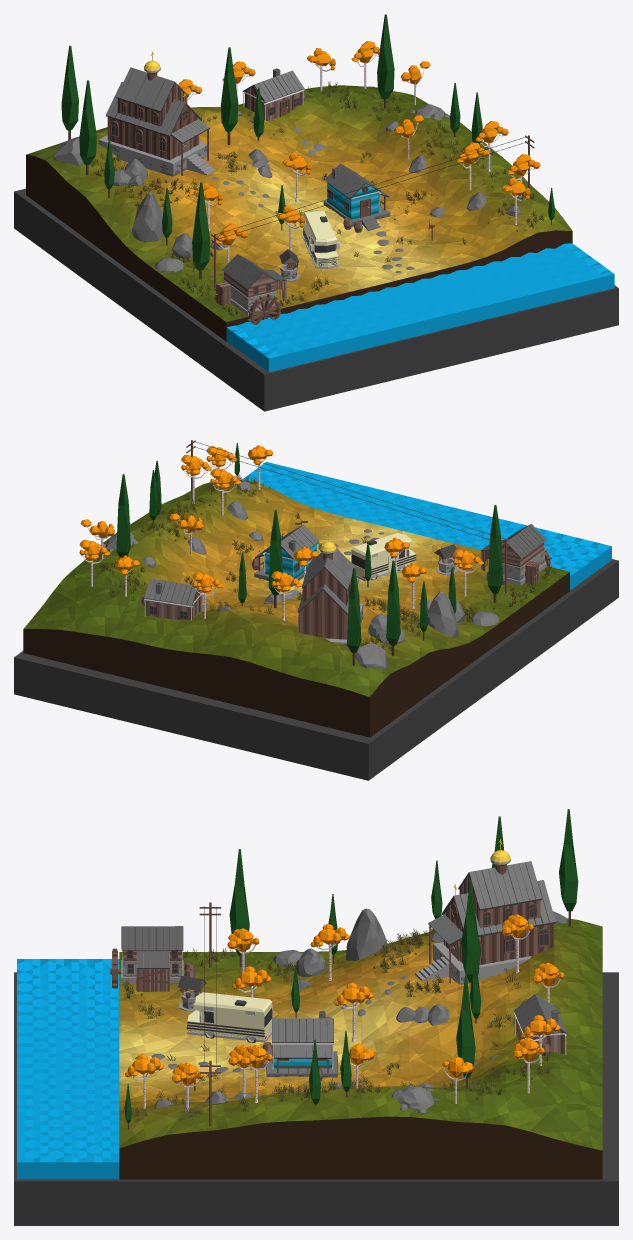
The model's file is village1.gltf.
The picture shows the model from 3 angles, top to bottom: view 1: azimuth 30°, elevation 25°; view 2: azimuth 150°, elevation 25°; view 3: azimuth 270°, elevation 25°; orthographic projection. The views are drawn at different scales.
Parts seen in each view (by area): view 1: Ground_51, Base_52, Water_50, Church_1_47, House_3_49, House_1_48, House_2_39, Hood_41, Rock_4 (4)_14, Tree_4 (3)_60, Tree_4 (9)_83, Tree_4_46 (+3 smaller); view 2: Ground_51, Base_52, Water_50, Church_1_47, House_2_39, House_3_49, Hood_41, House_1_48, Tree_4 (3)_60, Rock_4 (4)_14, Tree_4_46, Tree_4 (2)_55 (+11 smaller); view 3: Ground_51, Base_52, Water_50, Church_1_47, House_3_49, House_1_48, Hood_41, House_2_39, Rock_4 (4)_14, Tree_4 (2)_55, Tree_4 (9)_83, Tree_4 (4)_64 (+15 smaller).
Boxes of the visible parts, left/top/right/bottom form: Ground_51: left=26, top=85, right=572, bottom=341; Base_52: left=14, top=188, right=618, bottom=411; Water_50: left=226, top=243, right=614, bottom=372; Church_1_47: left=98, top=51, right=215, bottom=176; House_3_49: left=222, top=254, right=286, bottom=324; House_1_48: left=323, top=163, right=390, bottom=230; House_2_39: left=242, top=68, right=304, bottom=121; Hood_41: left=302, top=211, right=339, bottom=268; Rock_4 (4)_14: left=132, top=191, right=163, bottom=242; Tree_4 (3)_60: left=192, top=182, right=210, bottom=279; Tree_4 (9)_83: left=220, top=47, right=238, bottom=145; Tree_4_46: left=79, top=80, right=96, bottom=175; Ground_51: left=23, top=480, right=569, bottom=737; Base_52: left=14, top=559, right=618, bottom=780; Water_50: left=242, top=462, right=611, bottom=590; Church_1_47: left=297, top=532, right=363, bottom=646; House_2_39: left=144, top=578, right=203, bottom=620; House_3_49: left=481, top=524, right=551, bottom=585; Hood_41: left=351, top=533, right=416, bottom=581; House_1_48: left=254, top=525, right=319, bottom=586; Tree_4 (3)_60: left=488, top=505, right=502, bottom=602; Rock_4 (4)_14: left=427, top=591, right=458, bottom=637; Tree_4_46: left=386, top=560, right=400, bottom=656; Tree_4 (2)_55: left=347, top=567, right=361, bottom=665; Ground_51: left=119, top=918, right=602, bottom=1179; Base_52: left=14, top=972, right=618, bottom=1225; Water_50: left=17, top=959, right=119, bottom=1179; Church_1_47: left=415, top=839, right=555, bottom=984; House_3_49: left=110, top=926, right=183, bottom=991; House_1_48: left=250, top=1011, right=337, bottom=1077; Hood_41: left=186, top=992, right=272, bottom=1042; House_2_39: left=514, top=994, right=566, bottom=1054; Rock_4 (4)_14: left=346, top=908, right=387, bottom=960; Tree_4 (2)_55: left=559, top=809, right=578, bottom=926; Tree_4 (9)_83: left=461, top=880, right=480, bottom=988; Tree_4 (4)_64: left=456, top=975, right=475, bottom=1088.
Bounding box in the file's own units: 44.25 × 22.77 × 54.14.
4 materials, 4 textured.
